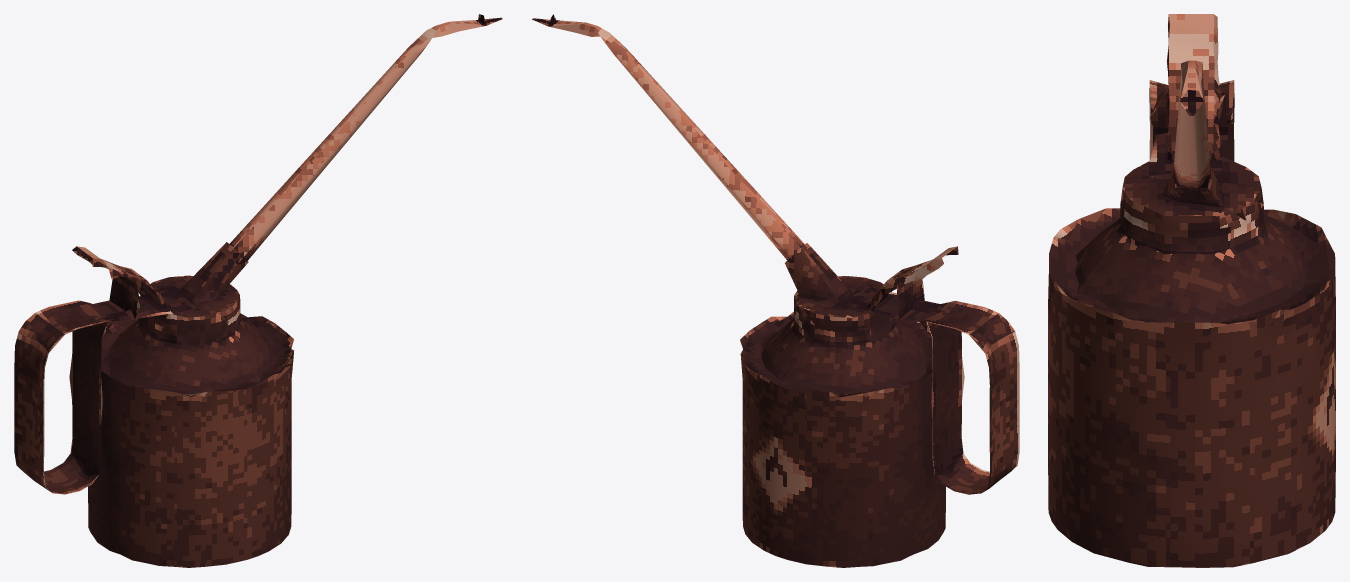
File: small_oil_can_01.glb
3 renders of one model, left to right at view 1: azimuth 30°, elevation 25°; view 2: azimuth 150°, elevation 25°; view 3: azimuth 270°, elevation 25°, orthographic. The views are drawn at different scales.
Visible parts, largest first — view 1: body; view 2: body; view 3: body.
Boxes of the visible parts, bbox=[...] form: body: bbox=[14, 14, 502, 567]; body: bbox=[531, 14, 1019, 567]; body: bbox=[1048, 14, 1335, 567].
Bounding box in the file's own units: 0.2667 × 0.2368 × 0.0993.
Materials: 1 (1 with a texture image).
